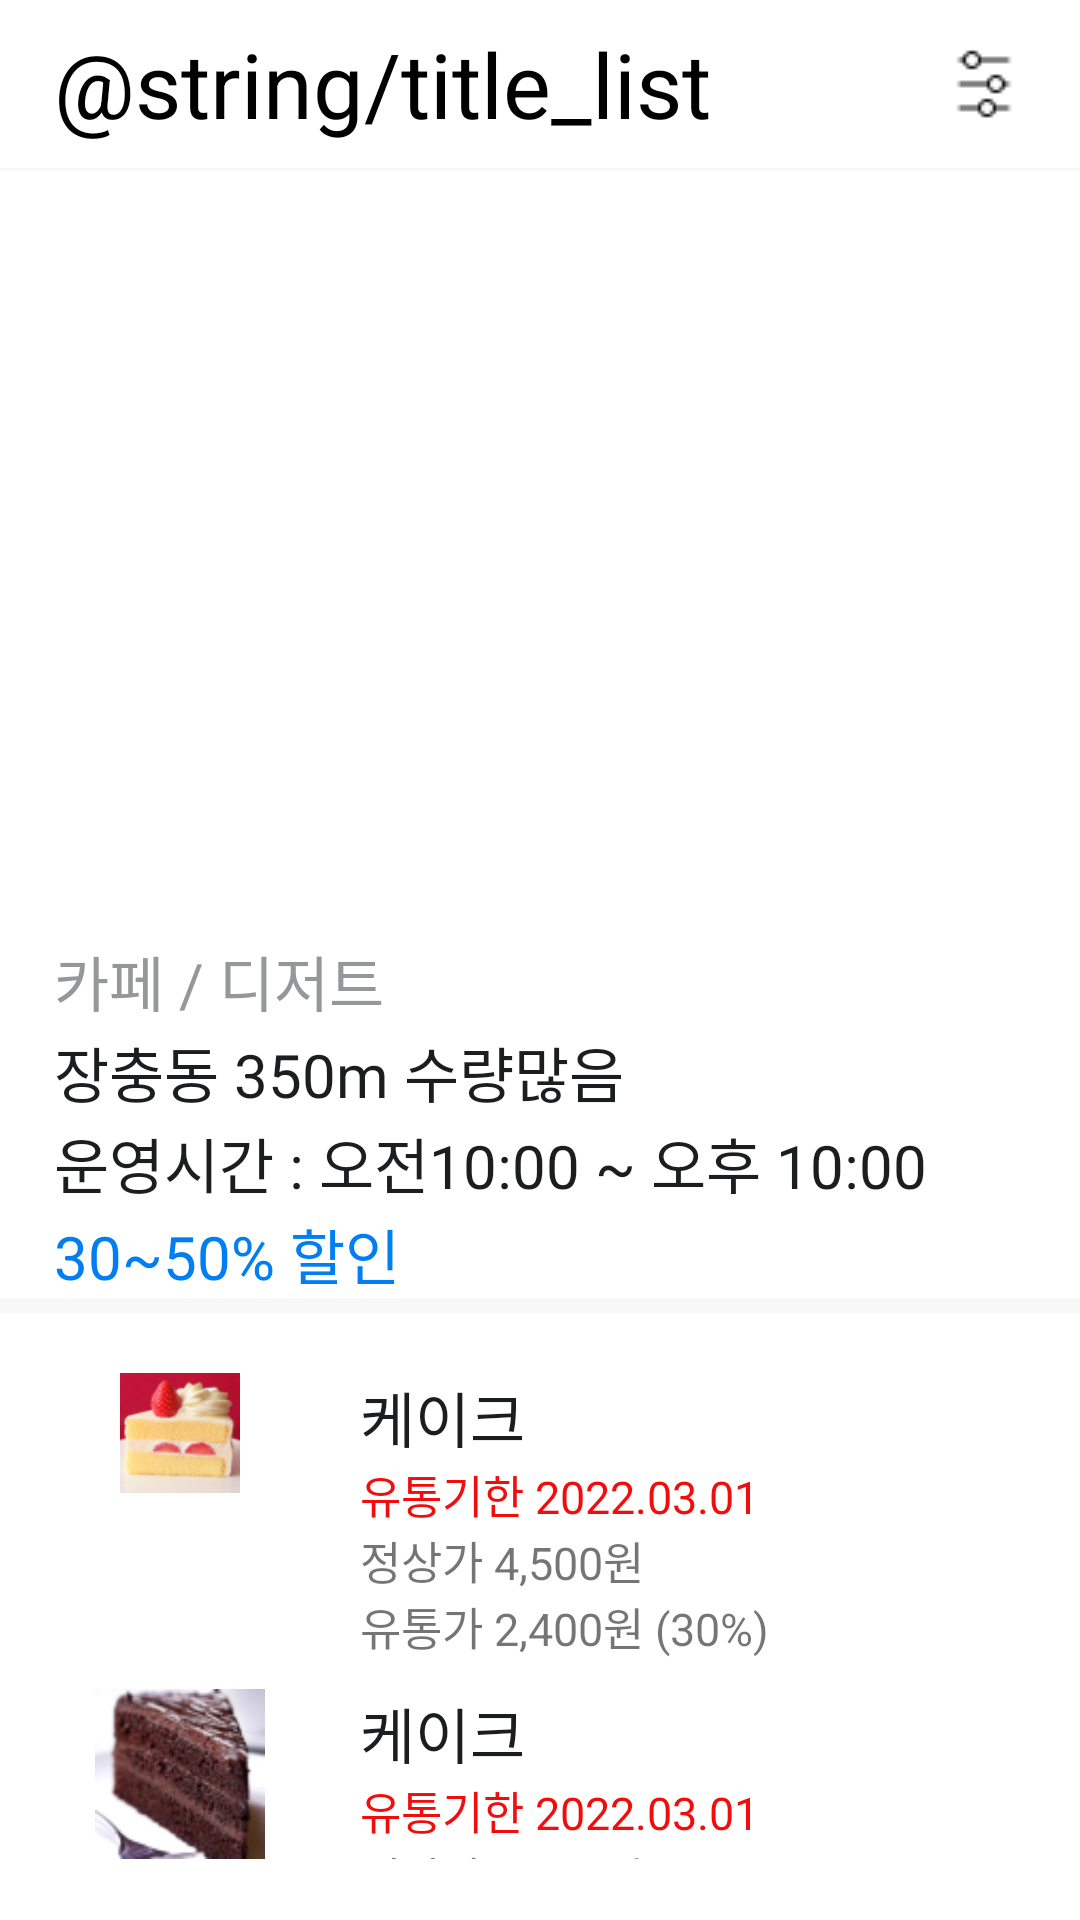

Icon click points for this 1080*1920 phone screenshot, format [x,y]:
berry cake: [180,1433]
choko cake: [180,1774]
filter: [984,84]
